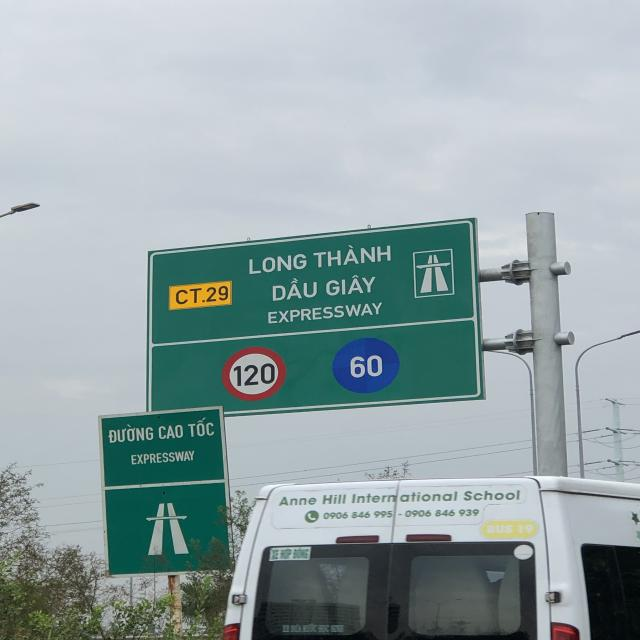Bien bao toc do toi thieu cho phep: (328, 336, 405, 396)
